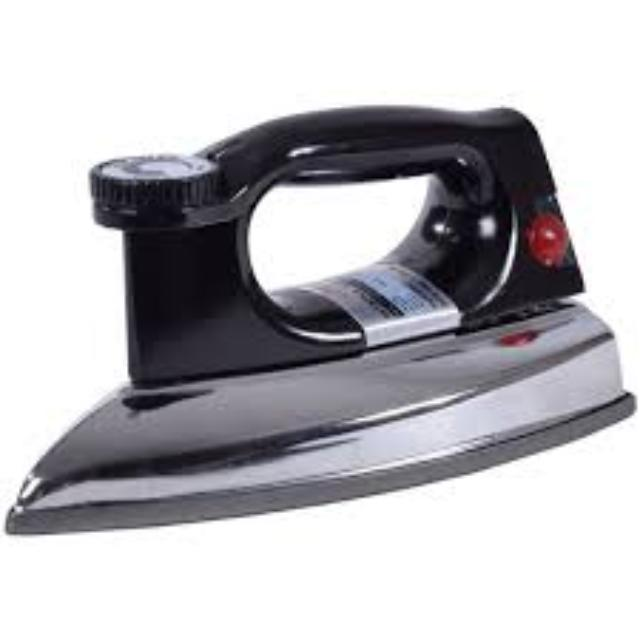Clothes-Iron: (137, 136, 598, 516)
